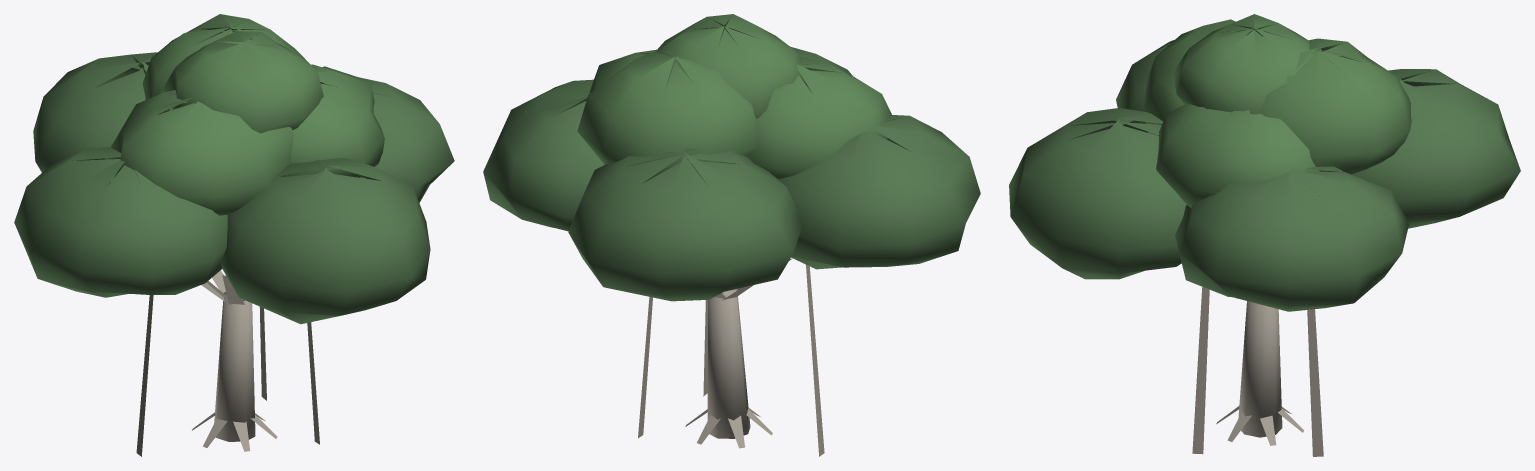
The model's file is giant-banyan-mid.glb.
3 renders of one model, left to right at view 1: azimuth 30°, elevation 25°; view 2: azimuth 150°, elevation 25°; view 3: azimuth 270°, elevation 25°, orthographic. The views are drawn at different scales.
Visible parts, largest first — view 1: giant-banyan-mid_canopy_giant-banyan_shade, giant-banyan-mid_canopy_giant-banyan, giant-banyan-mid_canopy_bark_banyan; view 2: giant-banyan-mid_canopy_giant-banyan_shade, giant-banyan-mid_canopy_giant-banyan, giant-banyan-mid_canopy_bark_banyan; view 3: giant-banyan-mid_canopy_giant-banyan_shade, giant-banyan-mid_canopy_giant-banyan, giant-banyan-mid_canopy_bark_banyan.
Boxes of the visible parts, left/top/right/bottom form: giant-banyan-mid_canopy_giant-banyan_shade: left=14, top=52, right=454, bottom=324; giant-banyan-mid_canopy_giant-banyan: left=104, top=14, right=384, bottom=215; giant-banyan-mid_canopy_bark_banyan: left=136, top=270, right=319, bottom=456; giant-banyan-mid_canopy_giant-banyan_shade: left=483, top=46, right=980, bottom=301; giant-banyan-mid_canopy_giant-banyan: left=577, top=14, right=894, bottom=182; giant-banyan-mid_canopy_bark_banyan: left=638, top=258, right=824, bottom=456; giant-banyan-mid_canopy_giant-banyan_shade: left=1009, top=40, right=1520, bottom=311; giant-banyan-mid_canopy_giant-banyan: left=1143, top=14, right=1411, bottom=207; giant-banyan-mid_canopy_bark_banyan: left=1192, top=287, right=1323, bottom=456.
Size of the model in its own units: 35.37 by 30.99 by 35.6.
